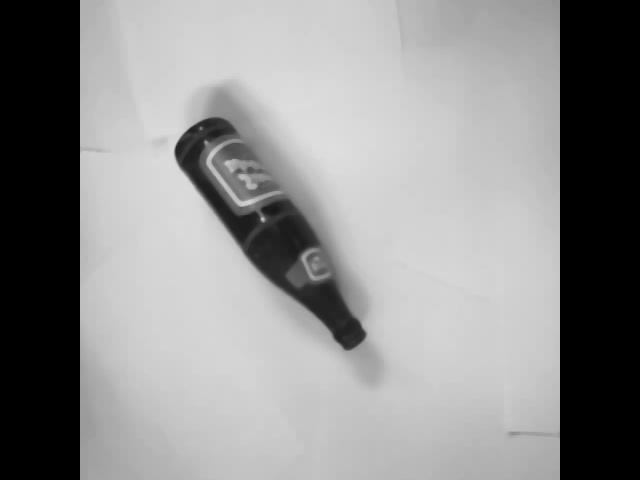Glass: (170, 112, 369, 357)
